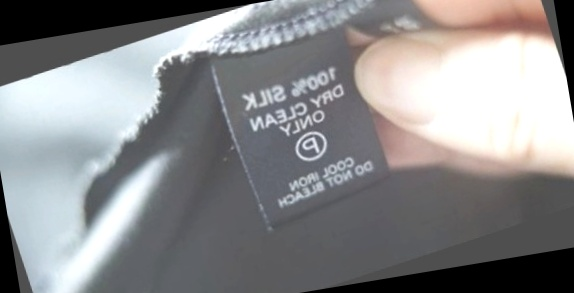dry_clean_any_solvent_except_trichloroethylene: (288, 125, 332, 166)
